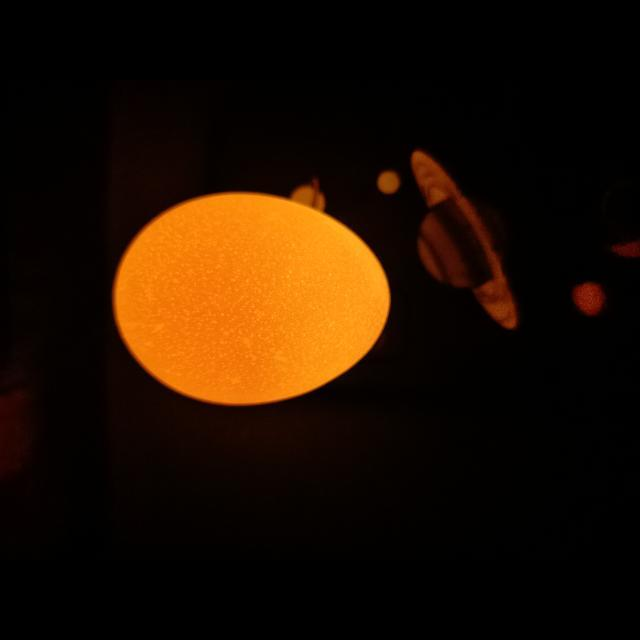AA - Premium: (114, 193, 390, 405), (258, 299, 260, 301)
